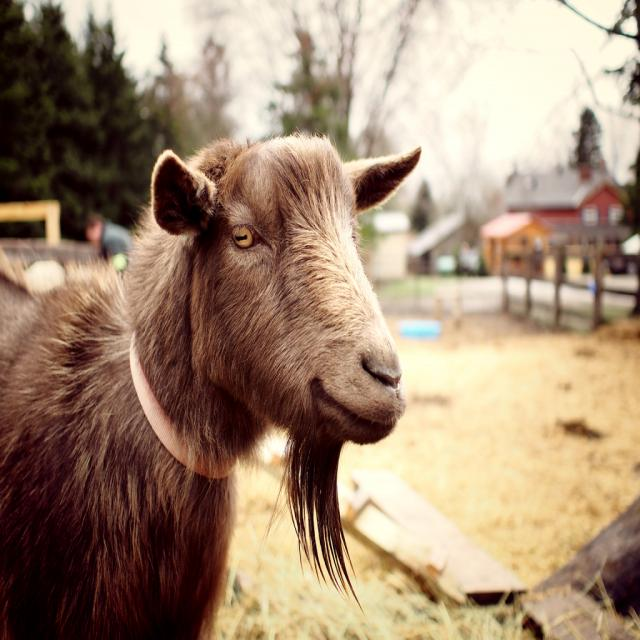Goat: (0, 121, 424, 638)
